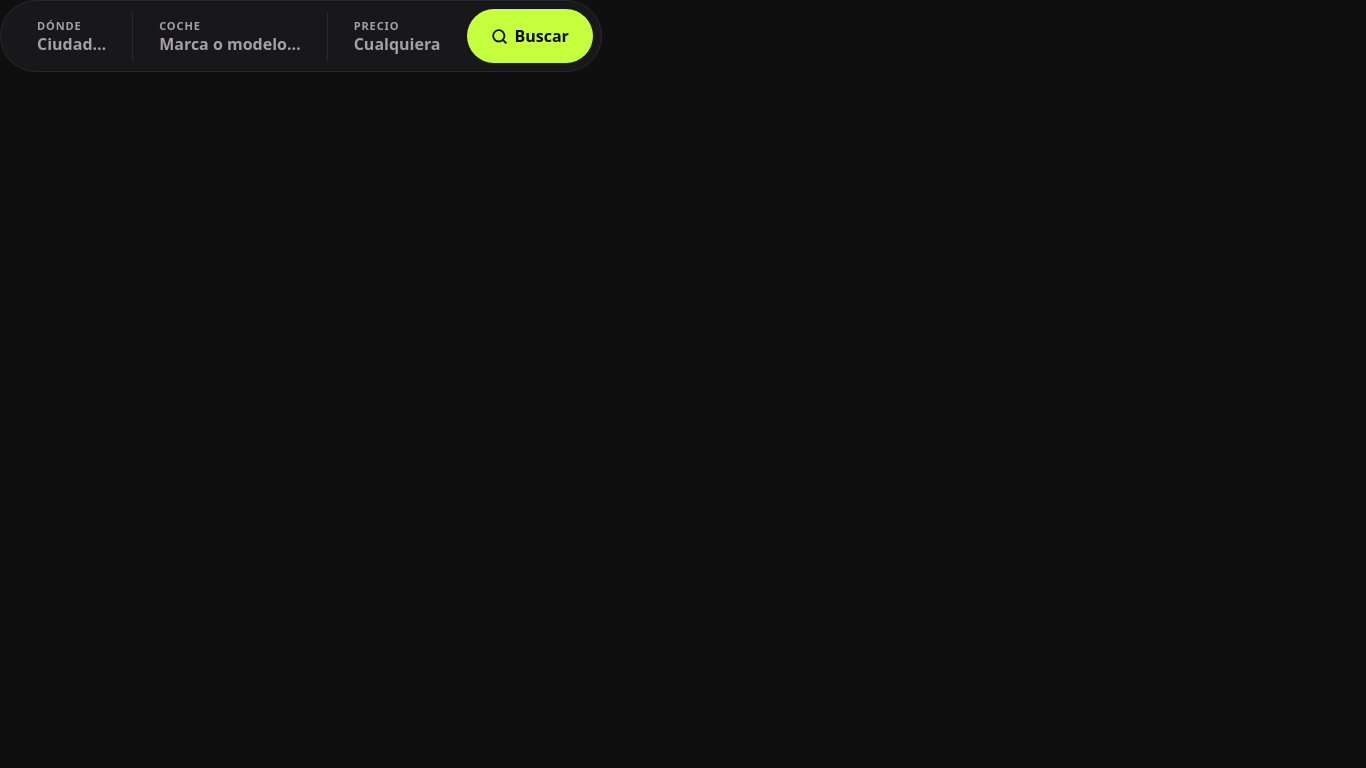
Test: ENTRY-2: LandingSearch — desktop segments › ENTRY-2: with «Dónde» open, pressing «Coche» opens «Coche»
Click the button "Dónde Ciudad…": (72, 36) x1=11 y1=12 x2=133 y2=60
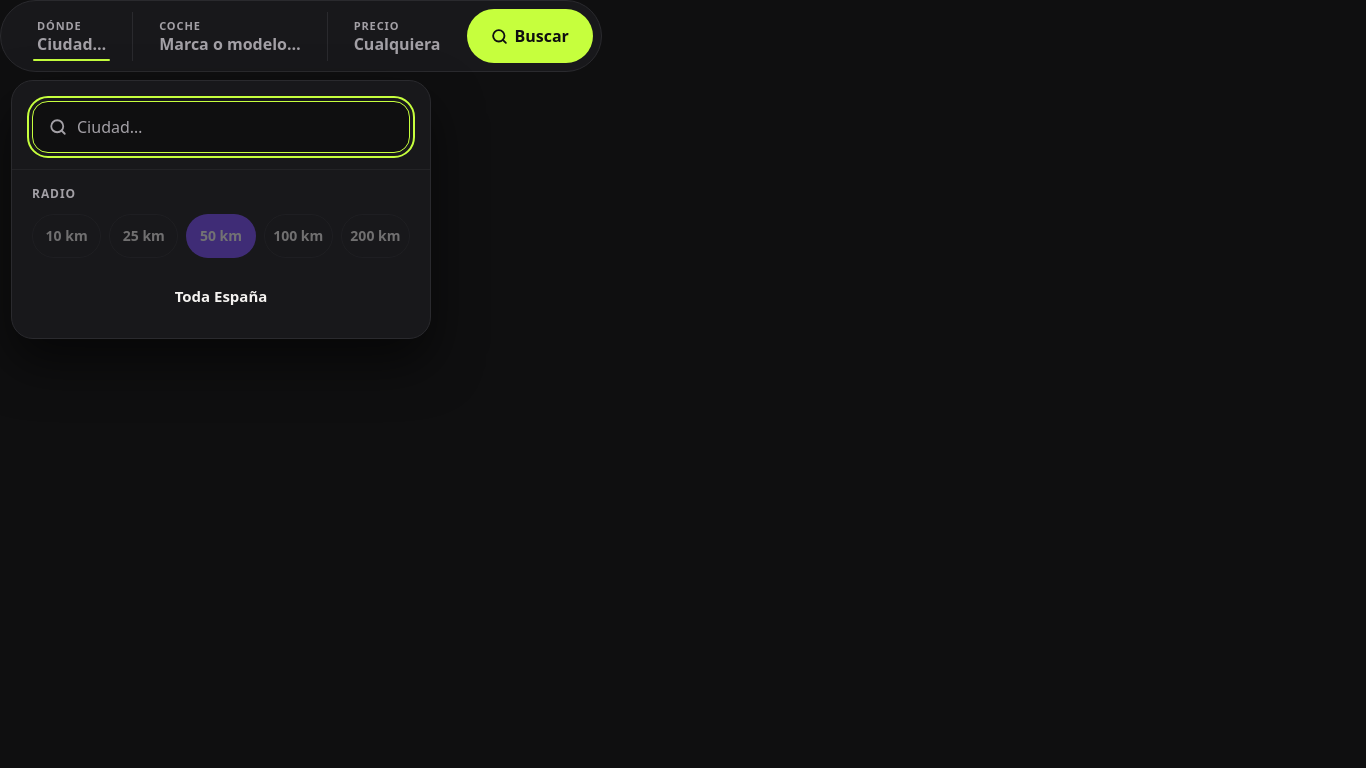
expect the dialog named "Dónde" is shown: met, box x1=11 y1=80 x2=431 y2=339
Click the button "Coche Marca o modelo…": (230, 36) x1=133 y1=12 x2=328 y2=60
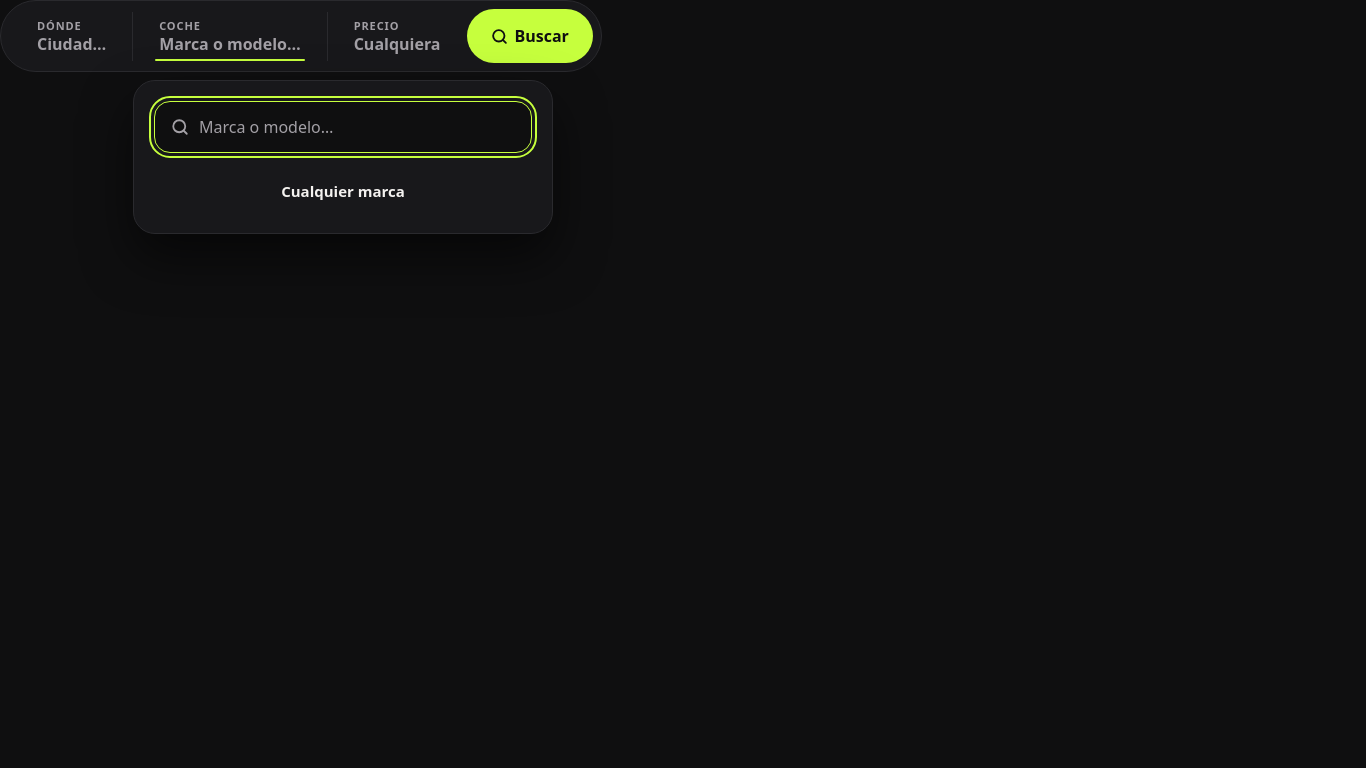
expect the dialog named "Coche" is shown: met, box x1=133 y1=80 x2=553 y2=234
